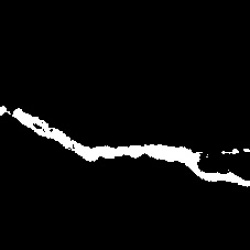crack: (2, 108, 250, 187), (221, 148, 247, 154)
